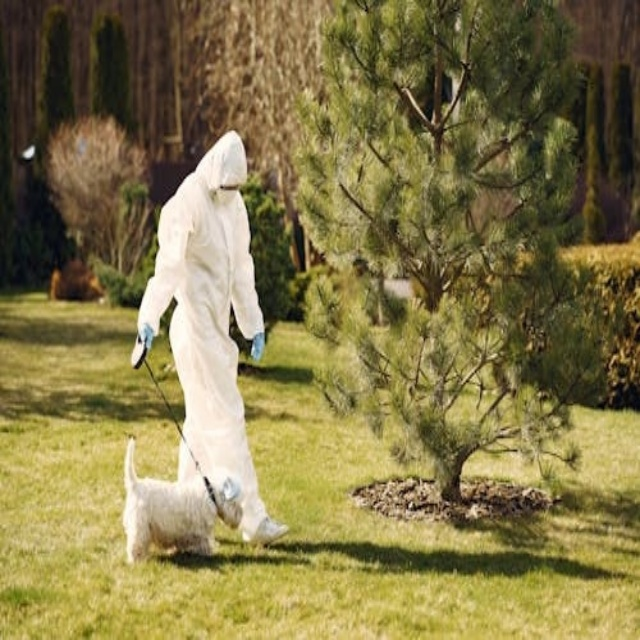Guantes: (139, 324, 154, 353), (251, 331, 265, 361)
Mascara: (215, 182, 241, 205)
